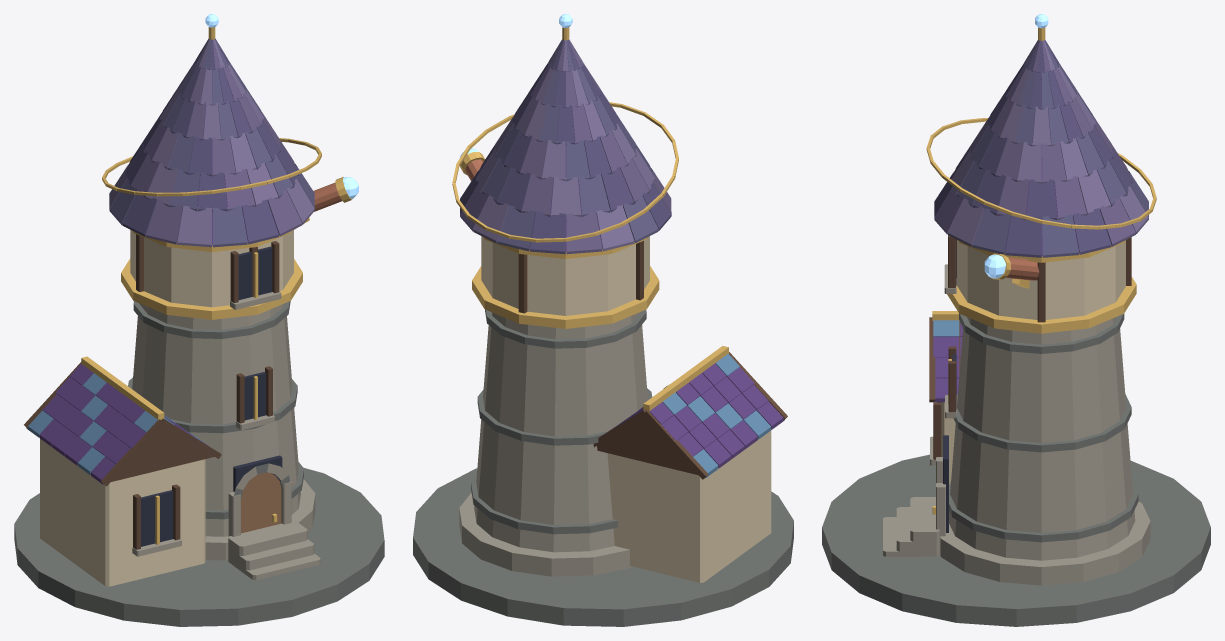
Rendered from ENV_Landmark_wizard_LOD0.glb.
3 renders of one model, left to right at view 1: azimuth 30°, elevation 25°; view 2: azimuth 150°, elevation 25°; view 3: azimuth 270°, elevation 25°, orthographic. The views are drawn at different scales.
Visible parts, largest first — view 1: ENV_Landmark_wizard_LOD0_s3-6_stoneDark, ENV_Landmark_wizard_LOD0_s3-6_stone, ENV_Landmark_wizard_LOD0_s3-6_plasterIvory, ENV_Landmark_wizard_LOD0_s6-6_violetTile0, ENV_Landmark_wizard_LOD0_s6-6_violetTile1, ENV_Landmark_wizard_LOD0_s6-6_violetTile2, ENV_Landmark_wizard_LOD0_s6-6_violetTile3, ENV_Landmark_wizard_LOD0_s3-6_violet, ENV_Landmark_wizard_LOD0_s4-6_plasterIvory, ENV_Landmark_wizard_LOD0_s3-6_woodDark, ENV_Landmark_wizard_LOD0_s4-6_gold, ENV_Landmark_wizard_LOD0_s3-6_ink (+7 smaller); view 2: ENV_Landmark_wizard_LOD0_s3-6_stone, ENV_Landmark_wizard_LOD0_s3-6_stoneDark, ENV_Landmark_wizard_LOD0_s3-6_plasterIvory, ENV_Landmark_wizard_LOD0_s4-6_plasterIvory, ENV_Landmark_wizard_LOD0_s6-6_violetTile0, ENV_Landmark_wizard_LOD0_s6-6_violetTile2, ENV_Landmark_wizard_LOD0_s6-6_violetTile1, ENV_Landmark_wizard_LOD0_s6-6_violetTile3, ENV_Landmark_wizard_LOD0_s3-6_violet, ENV_Landmark_wizard_LOD0_s3-6_woodDark, ENV_Landmark_wizard_LOD0_s4-6_gold, ENV_Landmark_wizard_LOD0_s6-6_gold (+3 smaller); view 3: ENV_Landmark_wizard_LOD0_s3-6_stone, ENV_Landmark_wizard_LOD0_s3-6_stoneDark, ENV_Landmark_wizard_LOD0_s4-6_plasterIvory, ENV_Landmark_wizard_LOD0_s6-6_violetTile0, ENV_Landmark_wizard_LOD0_s6-6_violetTile3, ENV_Landmark_wizard_LOD0_s6-6_violetTile1, ENV_Landmark_wizard_LOD0_s6-6_violetTile2, ENV_Landmark_wizard_LOD0_s4-6_gold, ENV_Landmark_wizard_LOD0_s6-6_gold, ENV_Landmark_wizard_LOD0_s3-6_woodDark, ENV_Landmark_wizard_LOD0_s3-6_violet, ENV_Landmark_wizard_LOD0_s4-6_woodDark (+2 smaller).
Boxes of the visible parts, <box> form: ENV_Landmark_wizard_LOD0_s3-6_stoneDark: <box>14,301,384,626</box>; ENV_Landmark_wizard_LOD0_s3-6_stone: <box>132,303,320,580</box>; ENV_Landmark_wizard_LOD0_s3-6_plasterIvory: <box>40,439,205,586</box>; ENV_Landmark_wizard_LOD0_s6-6_violetTile0: <box>122,38,298,244</box>; ENV_Landmark_wizard_LOD0_s6-6_violetTile1: <box>127,39,302,244</box>; ENV_Landmark_wizard_LOD0_s6-6_violetTile2: <box>109,39,314,247</box>; ENV_Landmark_wizard_LOD0_s6-6_violetTile3: <box>109,39,314,247</box>; ENV_Landmark_wizard_LOD0_s3-6_violet: <box>39,363,207,484</box>; ENV_Landmark_wizard_LOD0_s4-6_plasterIvory: <box>130,229,293,307</box>; ENV_Landmark_wizard_LOD0_s3-6_woodDark: <box>24,362,272,549</box>; ENV_Landmark_wizard_LOD0_s4-6_gold: <box>121,230,302,319</box>; ENV_Landmark_wizard_LOD0_s3-6_ink: <box>141,372,282,546</box>; ENV_Landmark_wizard_LOD0_s3-6_stone: <box>459,312,647,576</box>; ENV_Landmark_wizard_LOD0_s3-6_stoneDark: <box>413,309,793,626</box>; ENV_Landmark_wizard_LOD0_s3-6_plasterIvory: <box>607,430,771,582</box>; ENV_Landmark_wizard_LOD0_s4-6_plasterIvory: <box>481,236,649,315</box>; ENV_Landmark_wizard_LOD0_s6-6_violetTile0: <box>460,40,671,254</box>; ENV_Landmark_wizard_LOD0_s6-6_violetTile2: <box>473,39,654,251</box>; ENV_Landmark_wizard_LOD0_s6-6_violetTile1: <box>460,40,671,254</box>; ENV_Landmark_wizard_LOD0_s6-6_violetTile3: <box>478,39,658,251</box>; ENV_Landmark_wizard_LOD0_s3-6_violet: <box>609,363,784,468</box>; ENV_Landmark_wizard_LOD0_s3-6_woodDark: <box>593,352,787,479</box>; ENV_Landmark_wizard_LOD0_s4-6_gold: <box>472,237,659,328</box>; ENV_Landmark_wizard_LOD0_s6-6_gold: <box>452,27,678,242</box>; ENV_Landmark_wizard_LOD0_s3-6_stone: <box>883,317,1150,585</box>; ENV_Landmark_wizard_LOD0_s3-6_stoneDark: <box>822,313,1210,626</box>; ENV_Landmark_wizard_LOD0_s4-6_plasterIvory: <box>957,240,1125,319</box>; ENV_Landmark_wizard_LOD0_s6-6_violetTile0: <box>934,40,1132,257</box>; ENV_Landmark_wizard_LOD0_s6-6_violetTile3: <box>953,40,1148,257</box>; ENV_Landmark_wizard_LOD0_s6-6_violetTile1: <box>934,40,1135,246</box>; ENV_Landmark_wizard_LOD0_s6-6_violetTile2: <box>948,40,1148,246</box>; ENV_Landmark_wizard_LOD0_s4-6_gold: <box>947,240,1136,333</box>; ENV_Landmark_wizard_LOD0_s6-6_gold: <box>926,27,1156,229</box>; ENV_Landmark_wizard_LOD0_s3-6_woodDark: <box>929,317,960,459</box>; ENV_Landmark_wizard_LOD0_s3-6_violet: <box>933,323,962,402</box>; ENV_Landmark_wizard_LOD0_s4-6_woodDark: <box>948,235,1131,322</box>.
Bounding box in the file's own units: 8.5 × 13.09 × 8.5.
